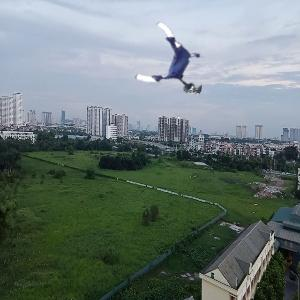drone: (139, 24, 207, 92)
